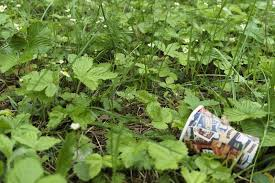paper_cup: (176, 105, 260, 172)
